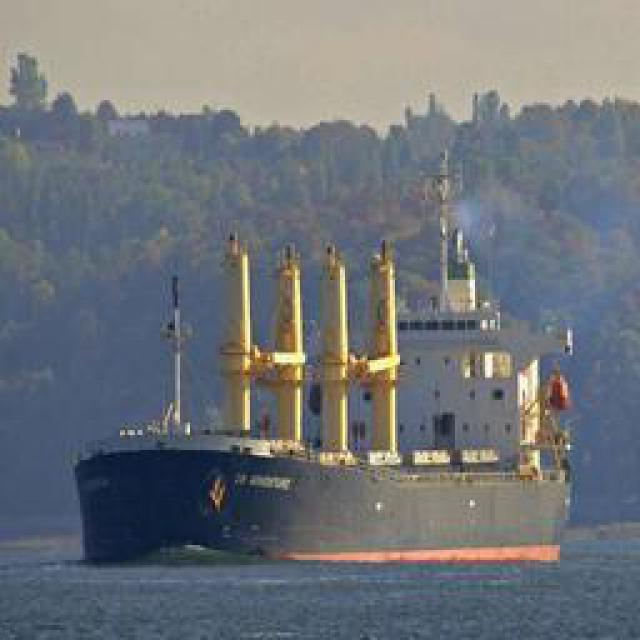Ship: (71, 201, 589, 566)
